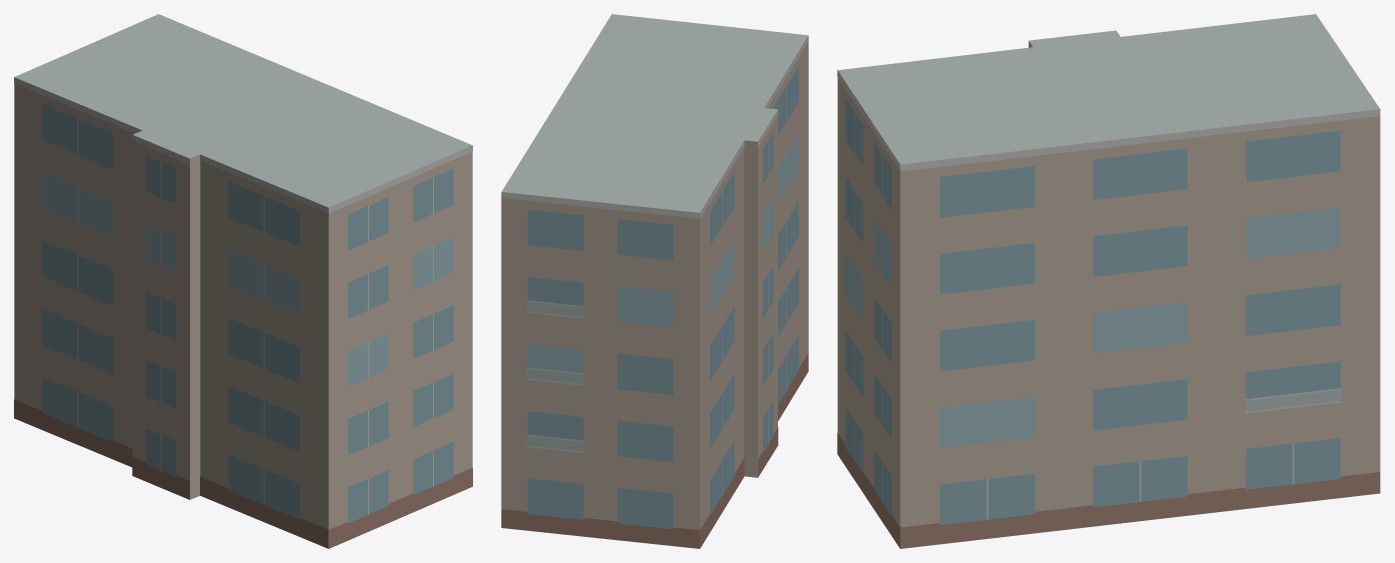
File: survey-upis-32985487.glb
The picture shows the model from 3 angles, left to right: view 1: azimuth 30°, elevation 25°; view 2: azimuth 150°, elevation 25°; view 3: azimuth 270°, elevation 25°; orthographic projection. The views are drawn at different scales.
Parts seen in each view (by area): view 1: survey-upis-32985487.tmp; view 2: survey-upis-32985487.tmp; view 3: survey-upis-32985487.tmp.
Boxes of the visible parts, <box> form: survey-upis-32985487.tmp: <box>14,14,472,548</box>; survey-upis-32985487.tmp: <box>501,14,808,548</box>; survey-upis-32985487.tmp: <box>837,14,1380,548</box>.
Bounding box in the file's own units: 11.4 × 13.55 × 17.35.
